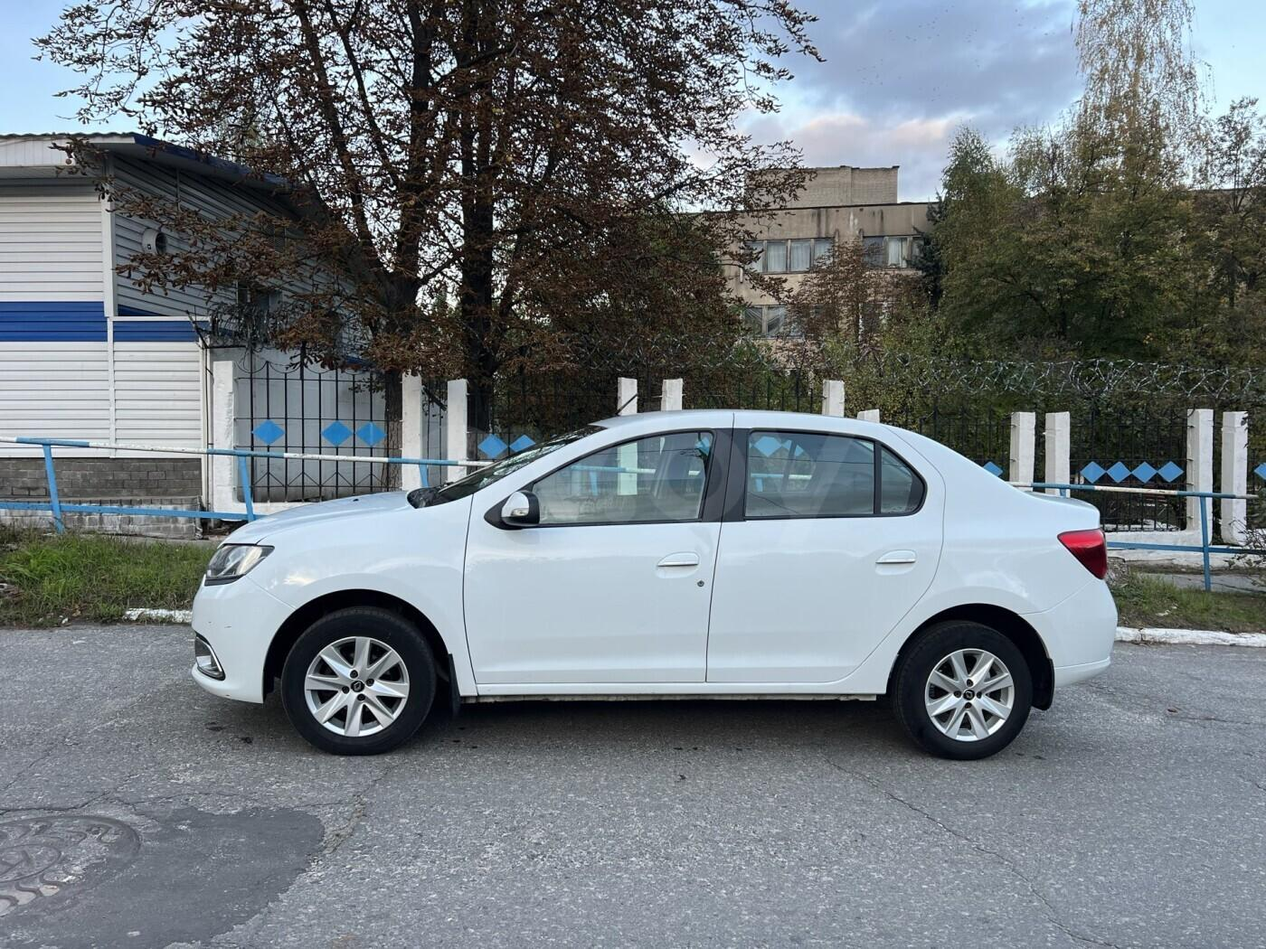Logan_2013-2018: (181, 399, 1112, 764)
